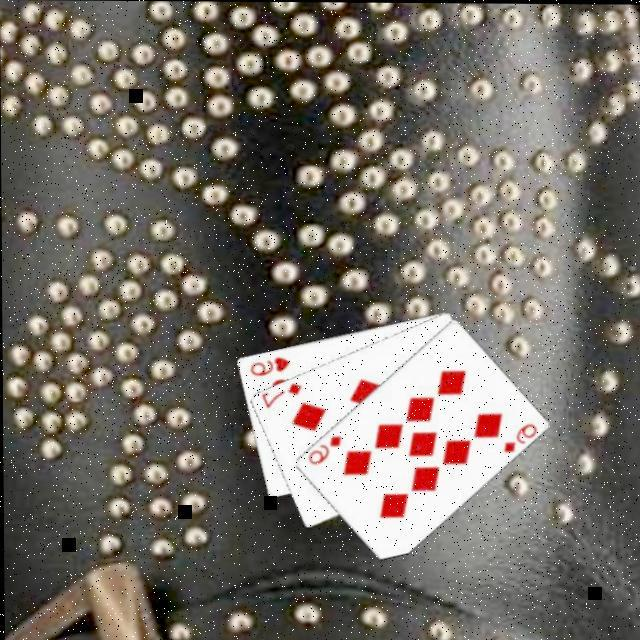7D: (257, 380, 303, 412)
9D: (302, 433, 342, 469), (498, 421, 538, 457)
9H: (245, 354, 291, 380)
